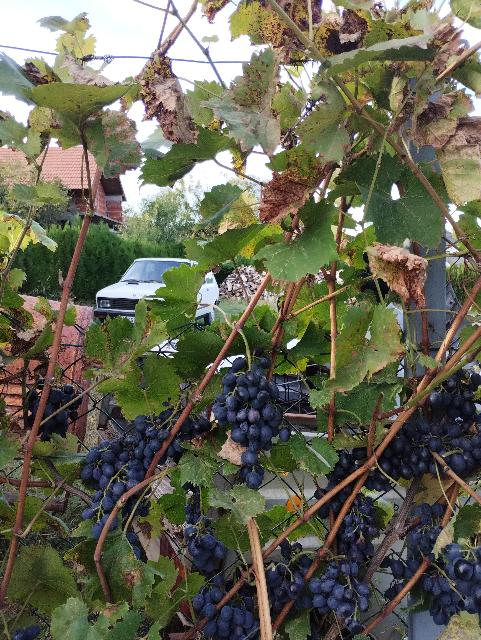grapes: (80, 409, 178, 531), (212, 356, 290, 489), (185, 492, 228, 572), (194, 588, 260, 640), (266, 540, 311, 612), (159, 418, 211, 466)
